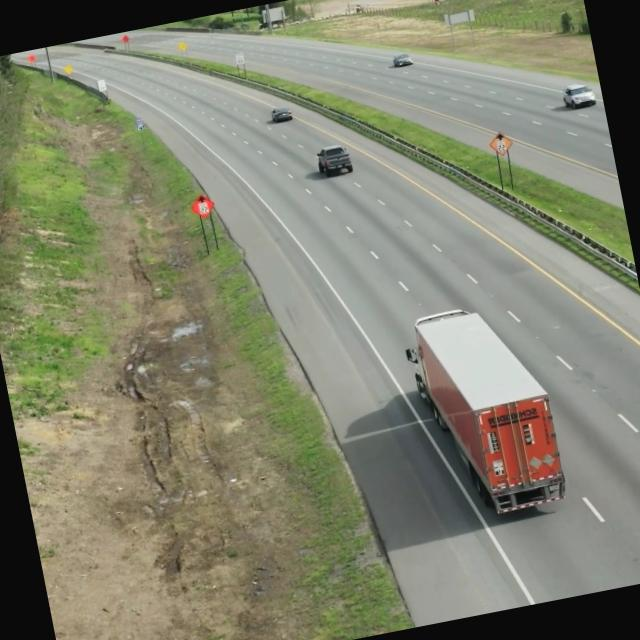Vehicle: (401, 289, 574, 532), (558, 76, 601, 118), (310, 140, 354, 180)
